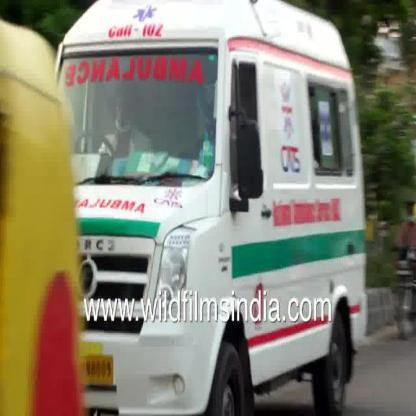priority: (68, 0, 364, 288), (88, 328, 370, 404)
